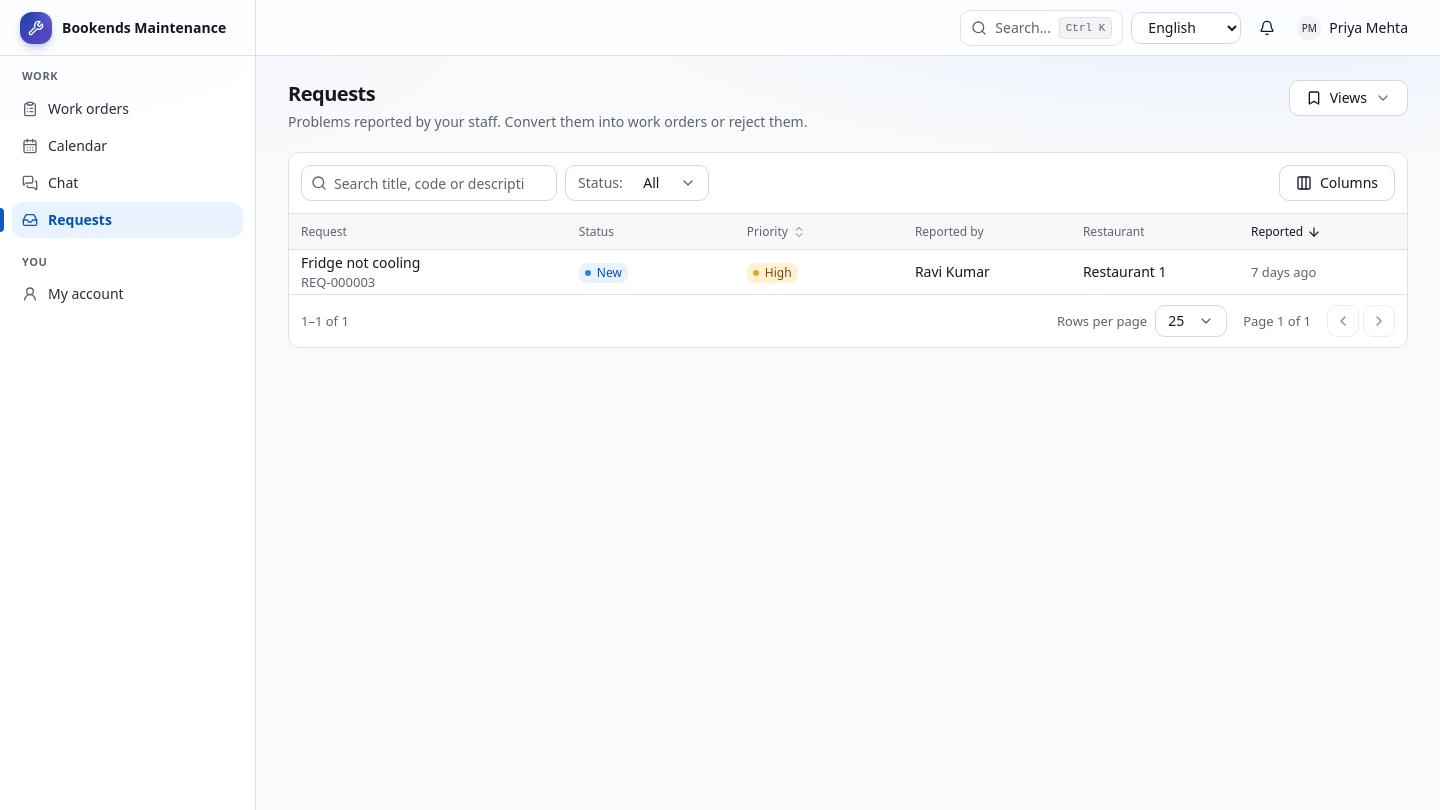
Test case: requests › opens a request from the list and rejects it with a reason
This screenshot has width=1440, height=810.
Click the text "Fridge not cooling".
click(361, 262)  # box [301,253,420,272]
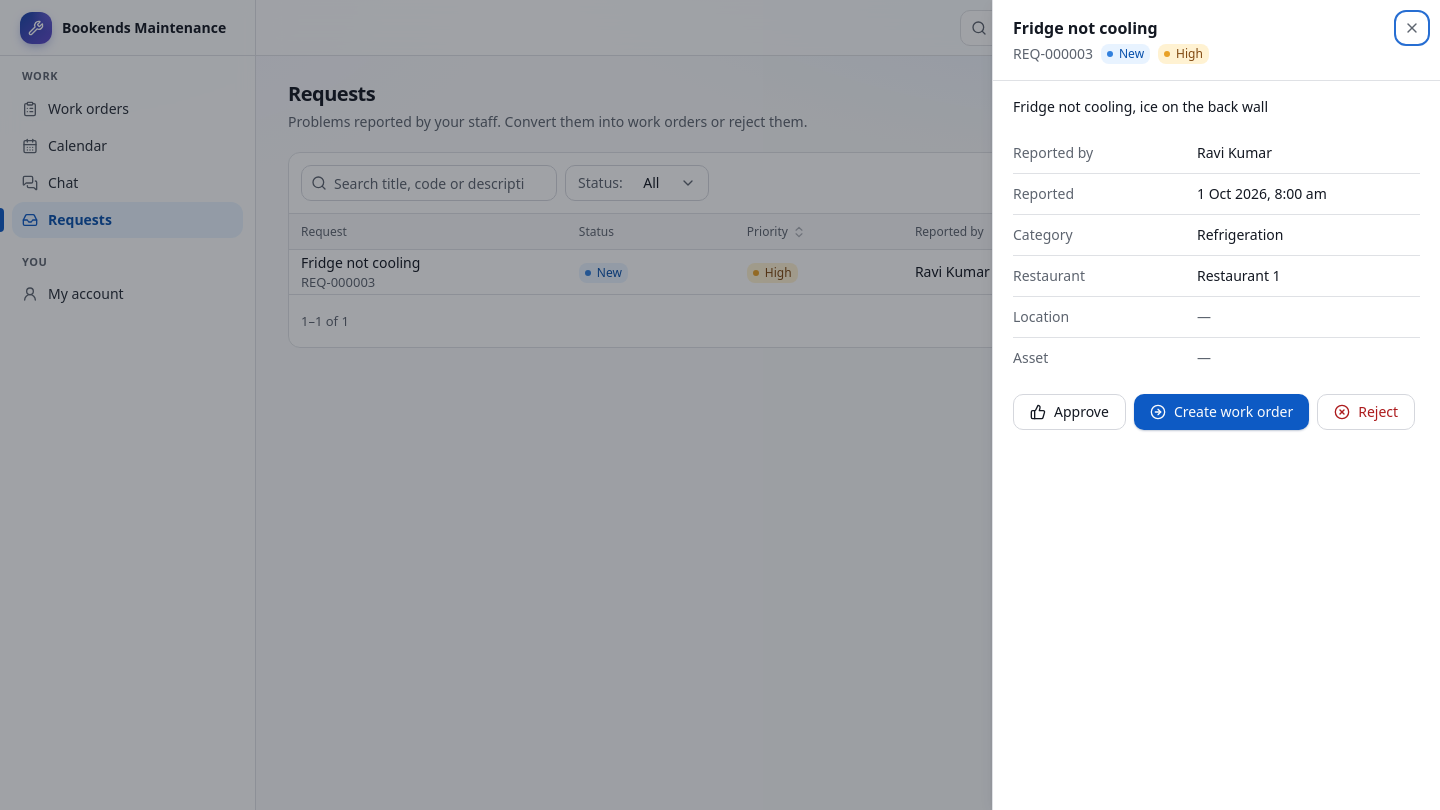
Now the text "Fridge not cooling, ice on the back wall" is shown, box [1013,97,1268,116]
Now the button "Create work order" is shown, box [1134,394,1309,430]
Click the button "Reject".
click(1366, 412)  # box [1317,394,1415,430]
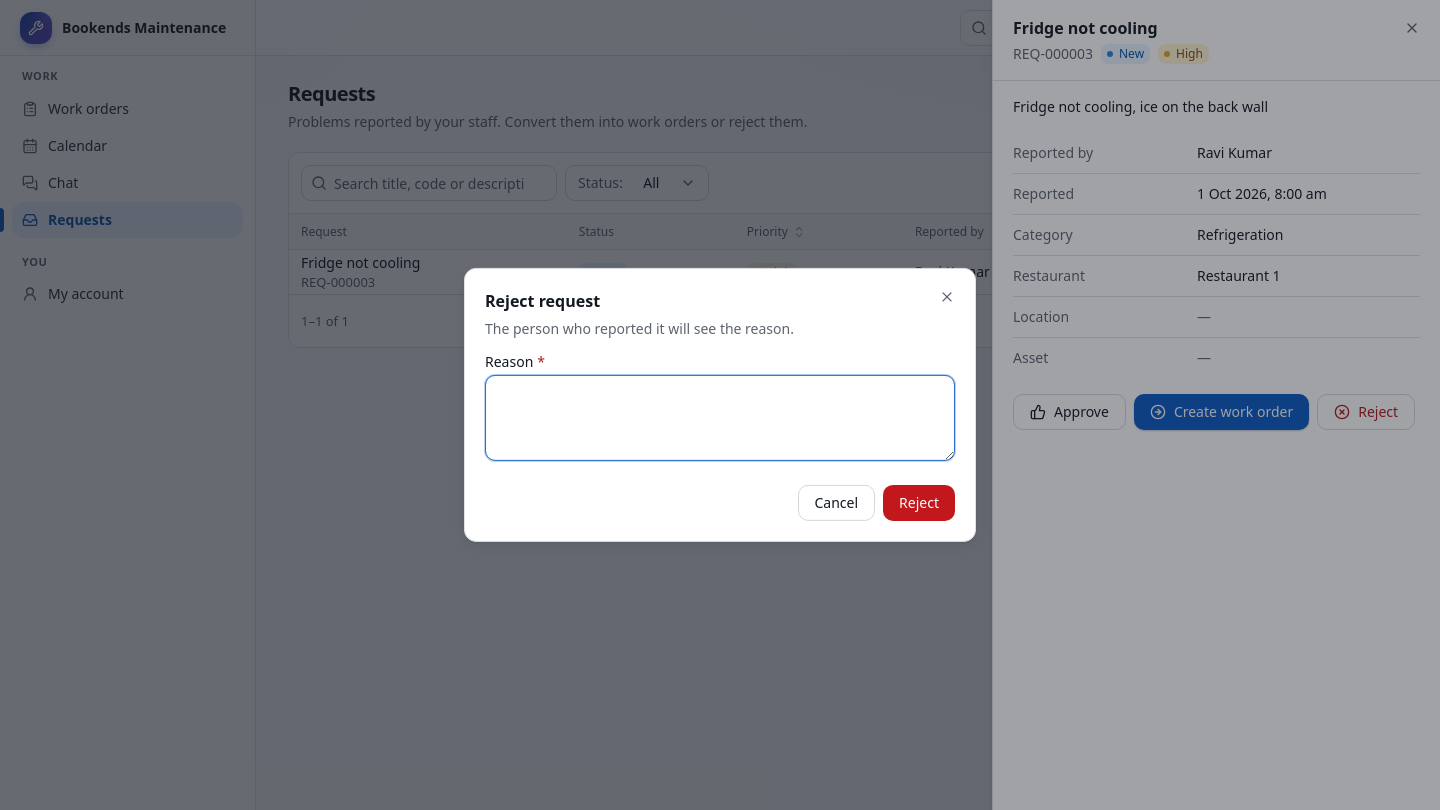
Type "Duplicate of REQ-000002" into the text box labelled "Reason *".
click(720, 418); type("Duplicate of REQ-000002")  # box [485,375,955,461]
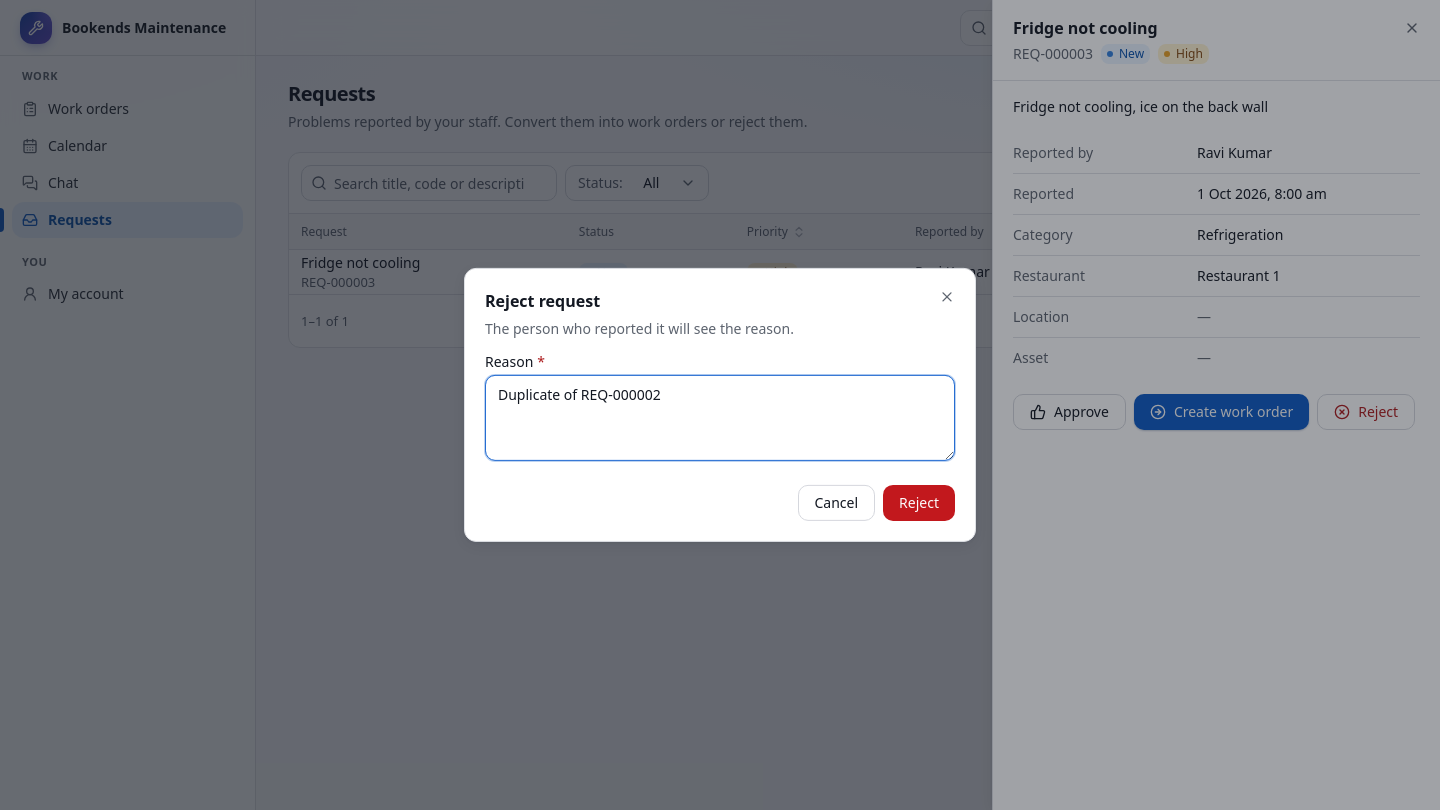
Click the button "Reject".
click(919, 503)  # box [883,485,955,521]
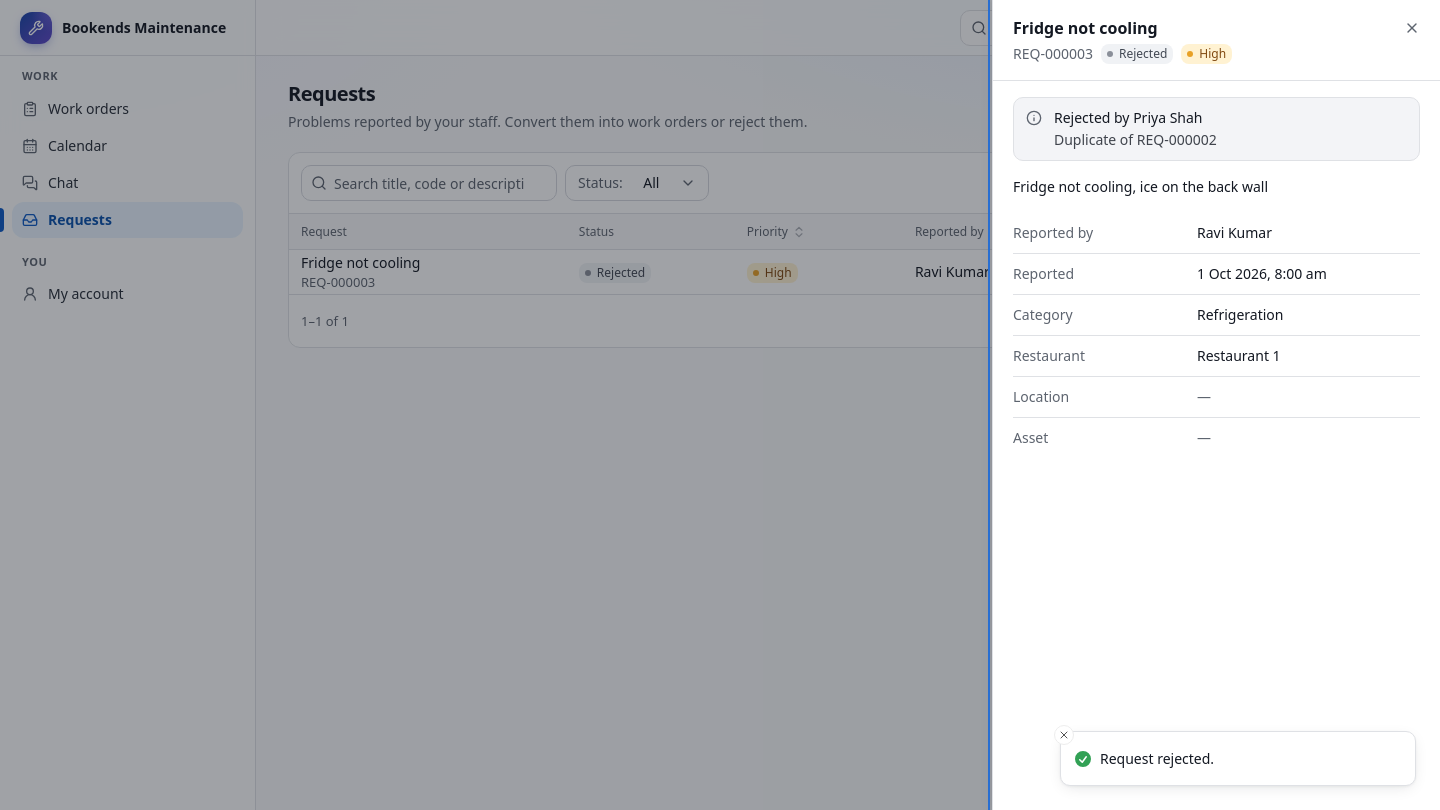
Now the text "Rejected by Priya Shah" is shown, box [1054,108,1202,127]
